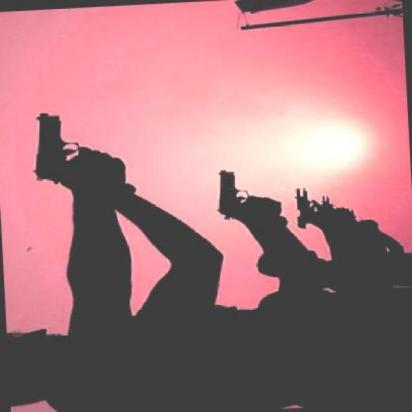Gun: (20, 102, 96, 187), (209, 161, 262, 219), (292, 186, 329, 227), (323, 193, 341, 212)
